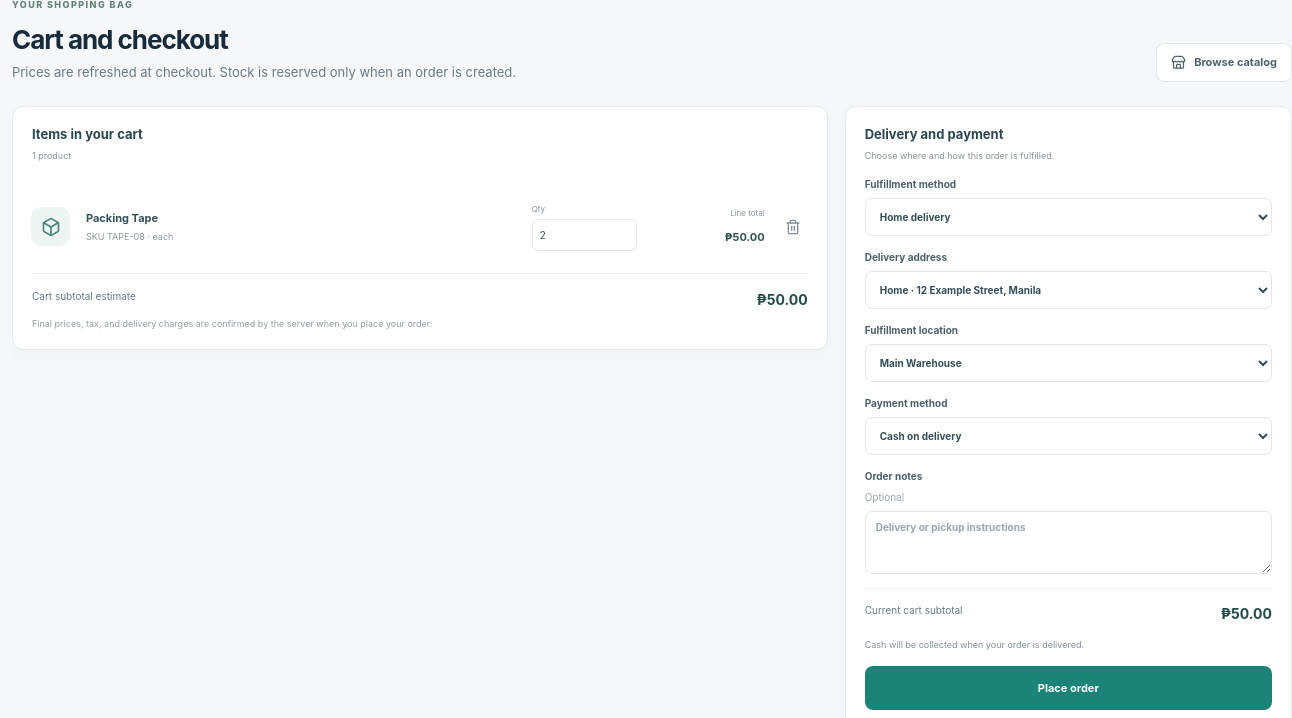
Test case: customer portal › places checkout with the selected fulfillment details and an idempotency key
Expected: the text "Packing Tape" is shown, [86, 210, 158, 224]
Select "Manual bank transfer" in the dropdown labelled "Payment method" at {"x": 1068, "y": 436}, box [865, 417, 1272, 455]
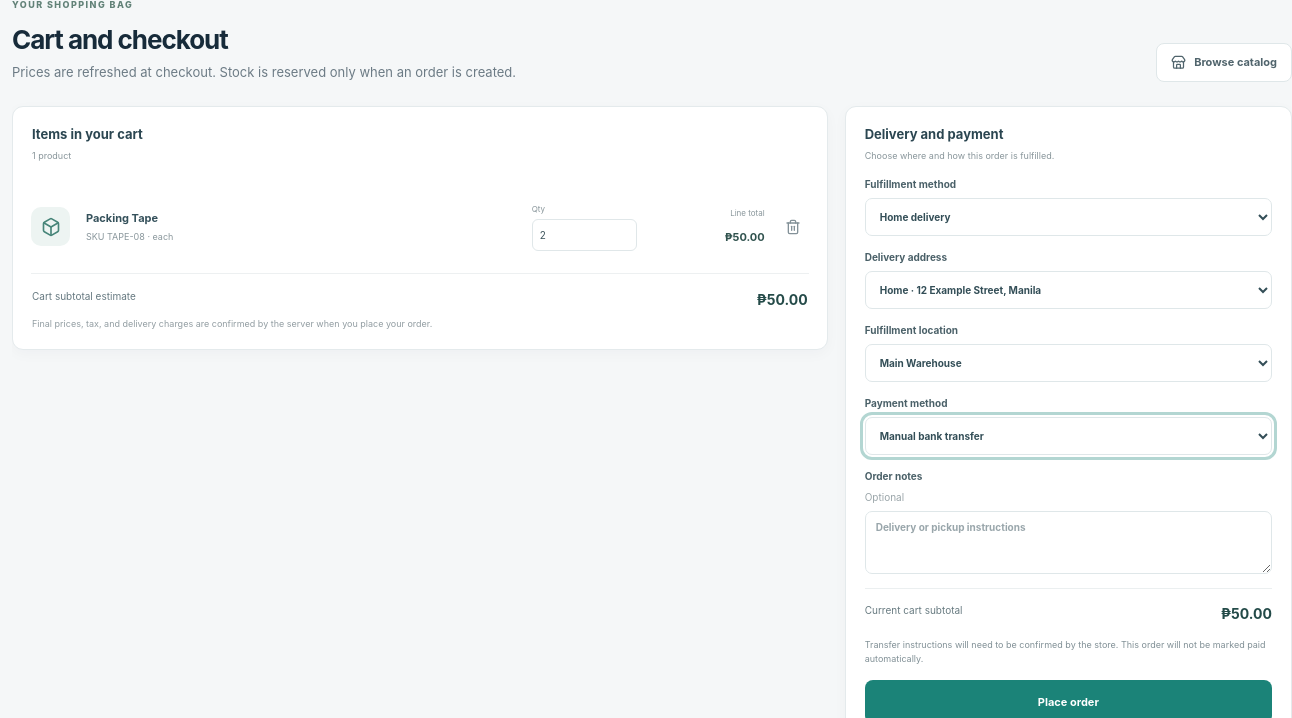
Type "Leave at the front desk" into the text box labelled "Order notes Optional" at {"x": 1068, "y": 542}, box [865, 511, 1272, 574]
(page scrolled)
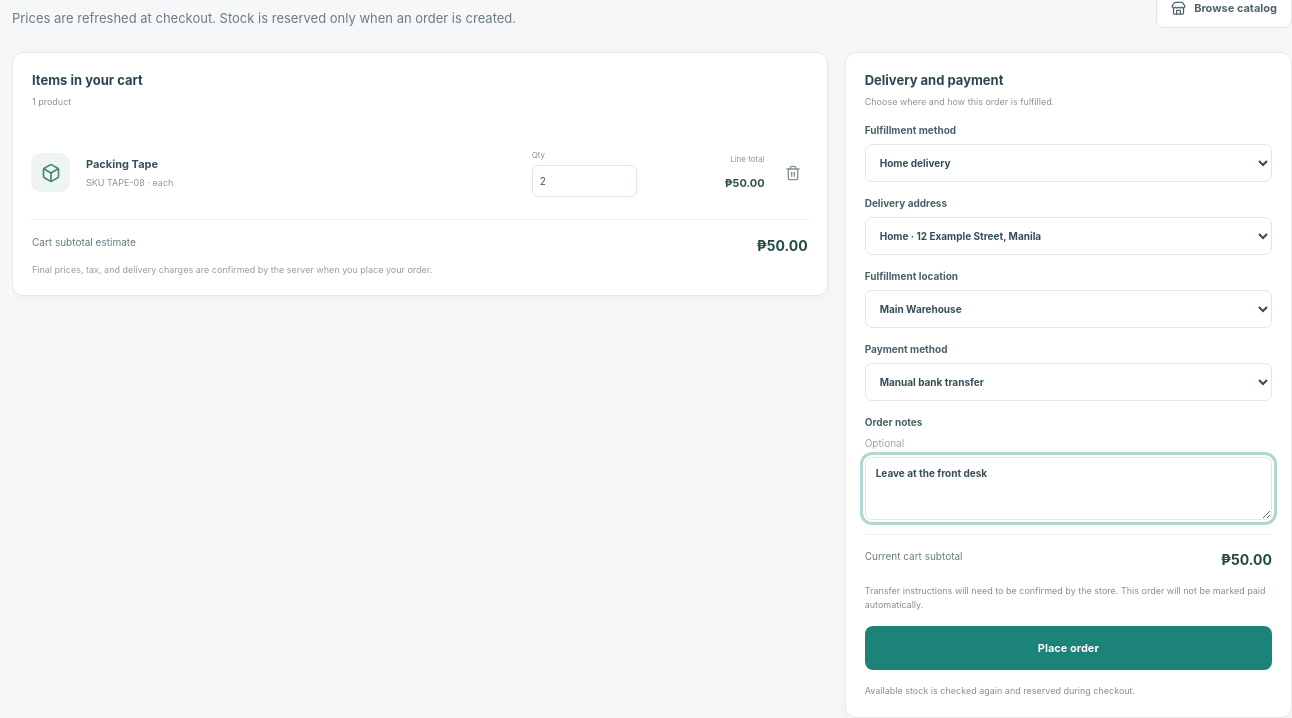
Click the button "Place order" at {"x": 1068, "y": 648}, box [865, 626, 1272, 670]
(page scrolled)
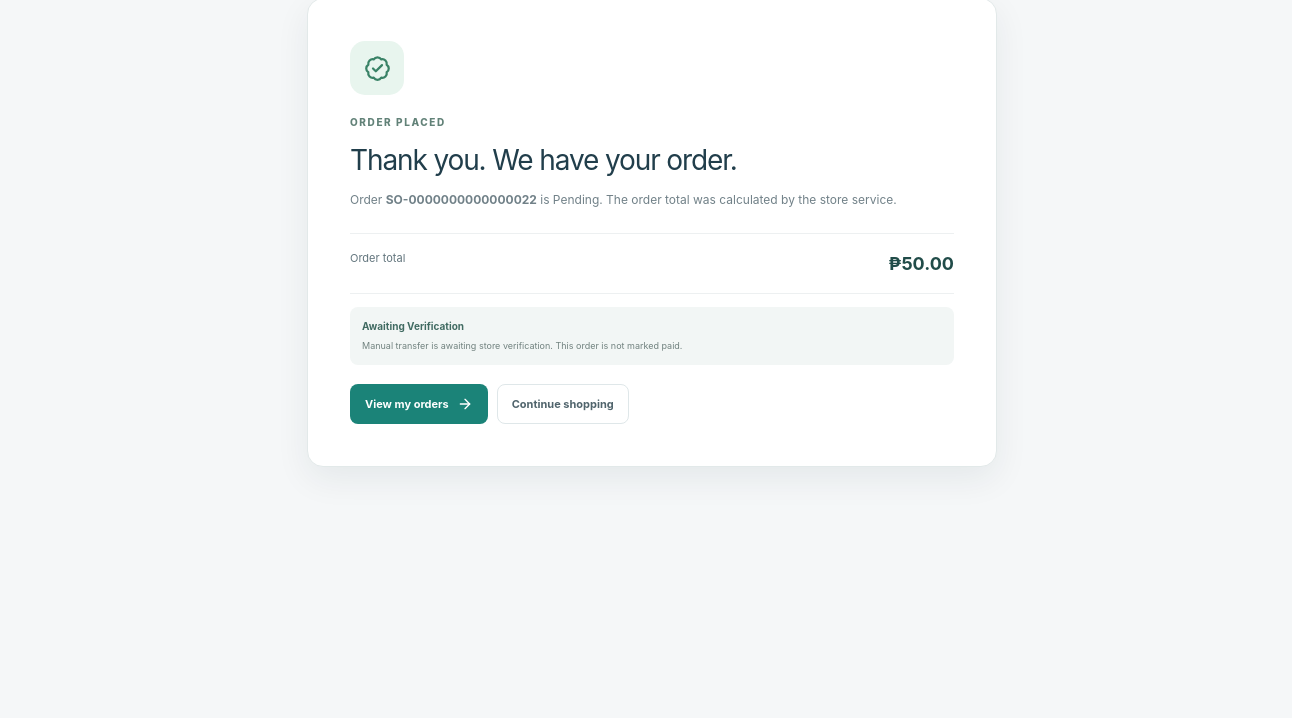
Expected: the text "SO-0000000000000022" is shown, [386, 192, 537, 207]
Expected: the text "not marked paid" is shown, [362, 340, 682, 351]
